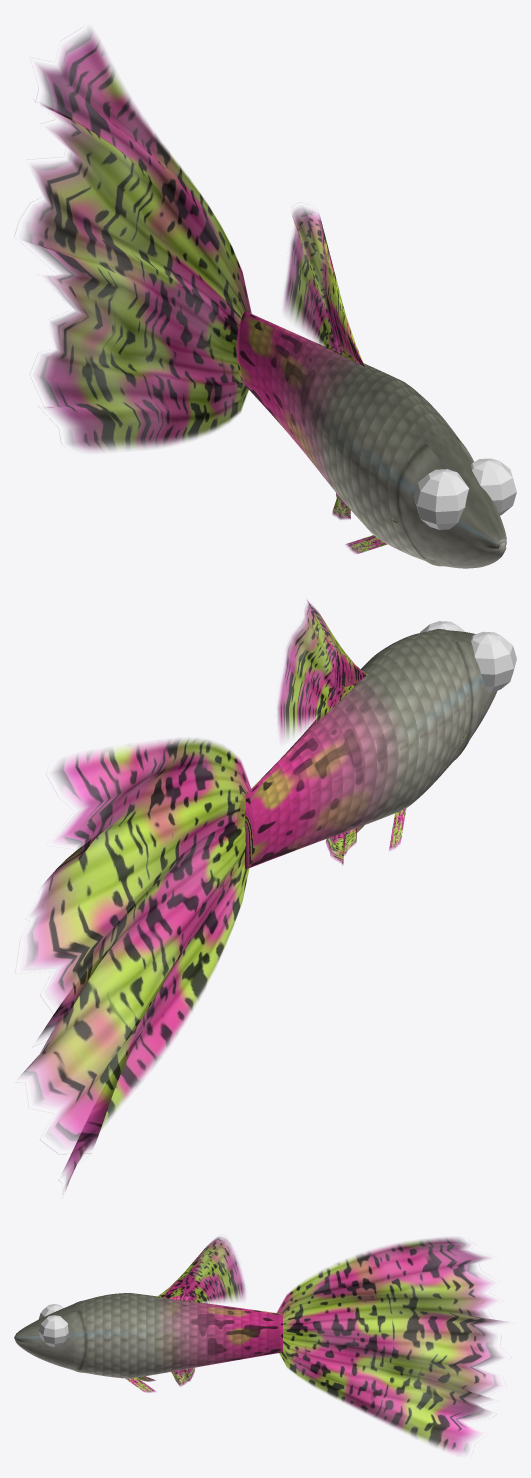
Rendered from guppy-3.glb.
3 renders of one model, top to bottom at view 1: azimuth 30°, elevation 25°; view 2: azimuth 150°, elevation 25°; view 3: azimuth 270°, elevation 25°, orthographic. The views are drawn at different scales.
Visible parts, largest first — view 1: Fins, Body, EyeL, EyeR; view 2: Fins, Body, EyeL; view 3: Fins, Body, EyeR.
Part boxes in pixels (x1,y1,x2,y2): Fins: [15, 31, 387, 553]; Body: [236, 311, 506, 568]; EyeL: [414, 469, 469, 529]; EyeR: [471, 458, 516, 515]; Fins: [15, 600, 406, 1194]; Body: [243, 629, 497, 869]; EyeL: [471, 631, 516, 692]; Fins: [125, 1237, 504, 1453]; Body: [14, 1293, 282, 1378]; EyeR: [38, 1315, 68, 1346].
Bounding box in the file's own units: 0.0777 × 0.34 × 0.6704.
Materials: 2 (2 with a texture image).
